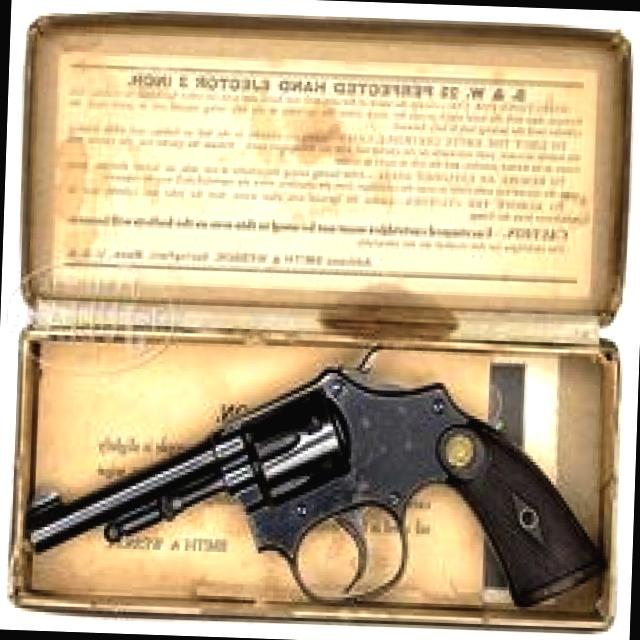revolver: (8, 328, 616, 632)
